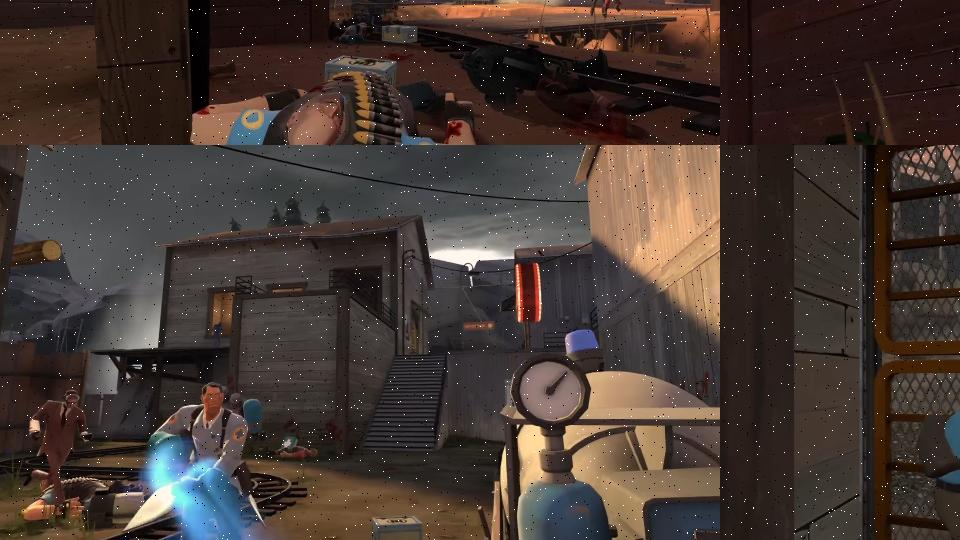Enemy: (188, 69, 485, 145), (127, 380, 259, 540), (915, 373, 960, 540), (28, 387, 86, 508), (331, 16, 372, 43), (602, 0, 623, 17), (587, 0, 608, 16)
